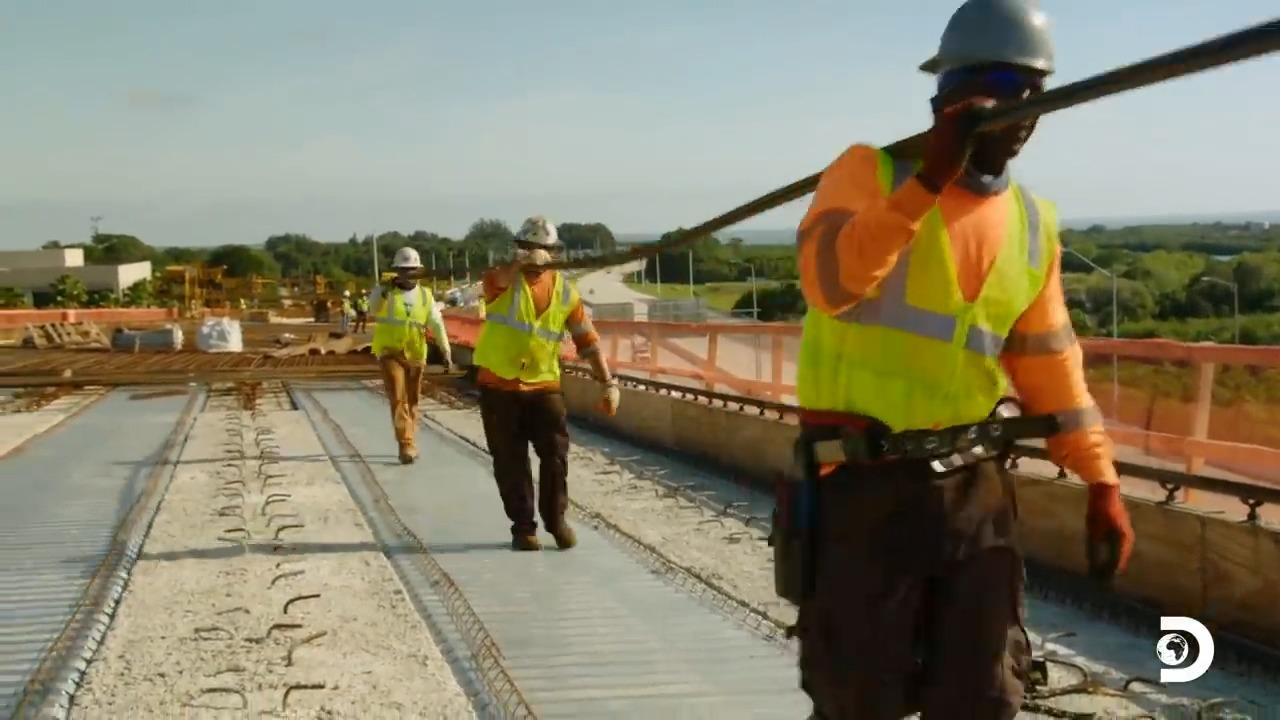Gloves: (932, 96, 1005, 172), (1078, 493, 1134, 590), (601, 382, 623, 417), (523, 250, 553, 270)
Helmet: (918, 0, 1055, 76), (512, 215, 559, 246), (390, 246, 423, 269)
Person: (784, 0, 1136, 718), (470, 215, 620, 550), (366, 246, 452, 464)
Safety Boot: (547, 518, 577, 551), (507, 516, 538, 547), (397, 444, 415, 462)
Safety Vest: (825, 179, 1041, 444), (492, 289, 572, 382), (380, 291, 430, 356)
